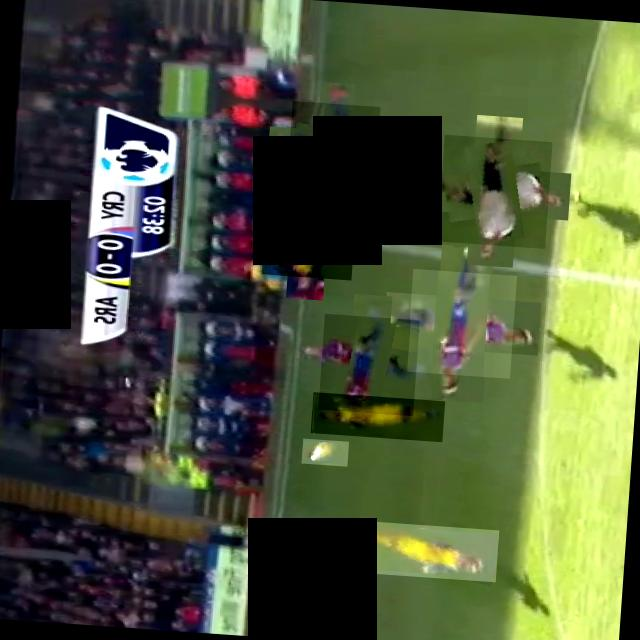ball: (301, 437, 349, 465)
referee: (437, 134, 552, 248)
soccer-player: (406, 268, 517, 378), (318, 312, 419, 414), (261, 182, 357, 279), (351, 519, 498, 581), (286, 100, 380, 194), (310, 390, 445, 440)
